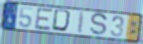3: (110, 15, 125, 38)
5: (18, 6, 34, 29)
D: (51, 8, 73, 33)
E: (34, 7, 54, 32)
I: (76, 11, 86, 35)
S: (89, 12, 109, 37)
